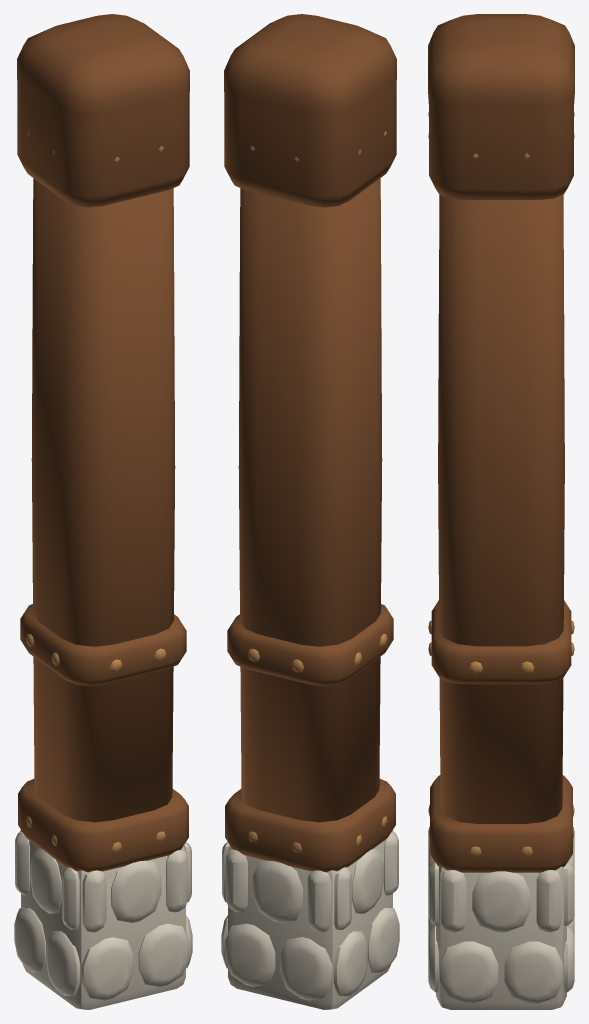
The model's file is ZoneKitCorner_v2.fbx.
The picture shows the model from 3 angles, left to right: view 1: azimuth 30°, elevation 25°; view 2: azimuth 150°, elevation 25°; view 3: azimuth 270°, elevation 25°; orthographic projection.
Parts seen in each view (by area): view 1: ZoneKitCorner_v2; view 2: ZoneKitCorner_v2; view 3: ZoneKitCorner_v2.
Boxes of the visible parts, left/top/right/bottom form: ZoneKitCorner_v2: left=14, top=14, right=192, bottom=1009; ZoneKitCorner_v2: left=221, top=14, right=399, bottom=1009; ZoneKitCorner_v2: left=428, top=14, right=574, bottom=1009.
Bounding box in the file's own units: 0.4 × 2.87 × 0.4.
